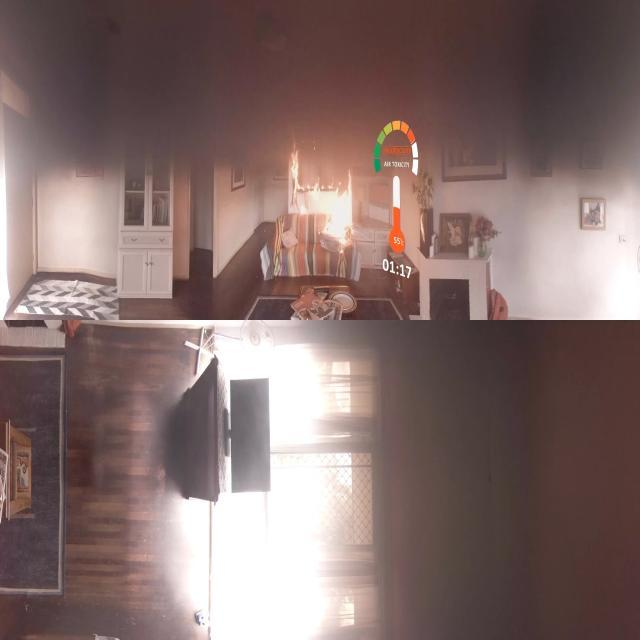Fire: (290, 141, 354, 246)
